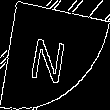N_N: (33, 26, 77, 84)
